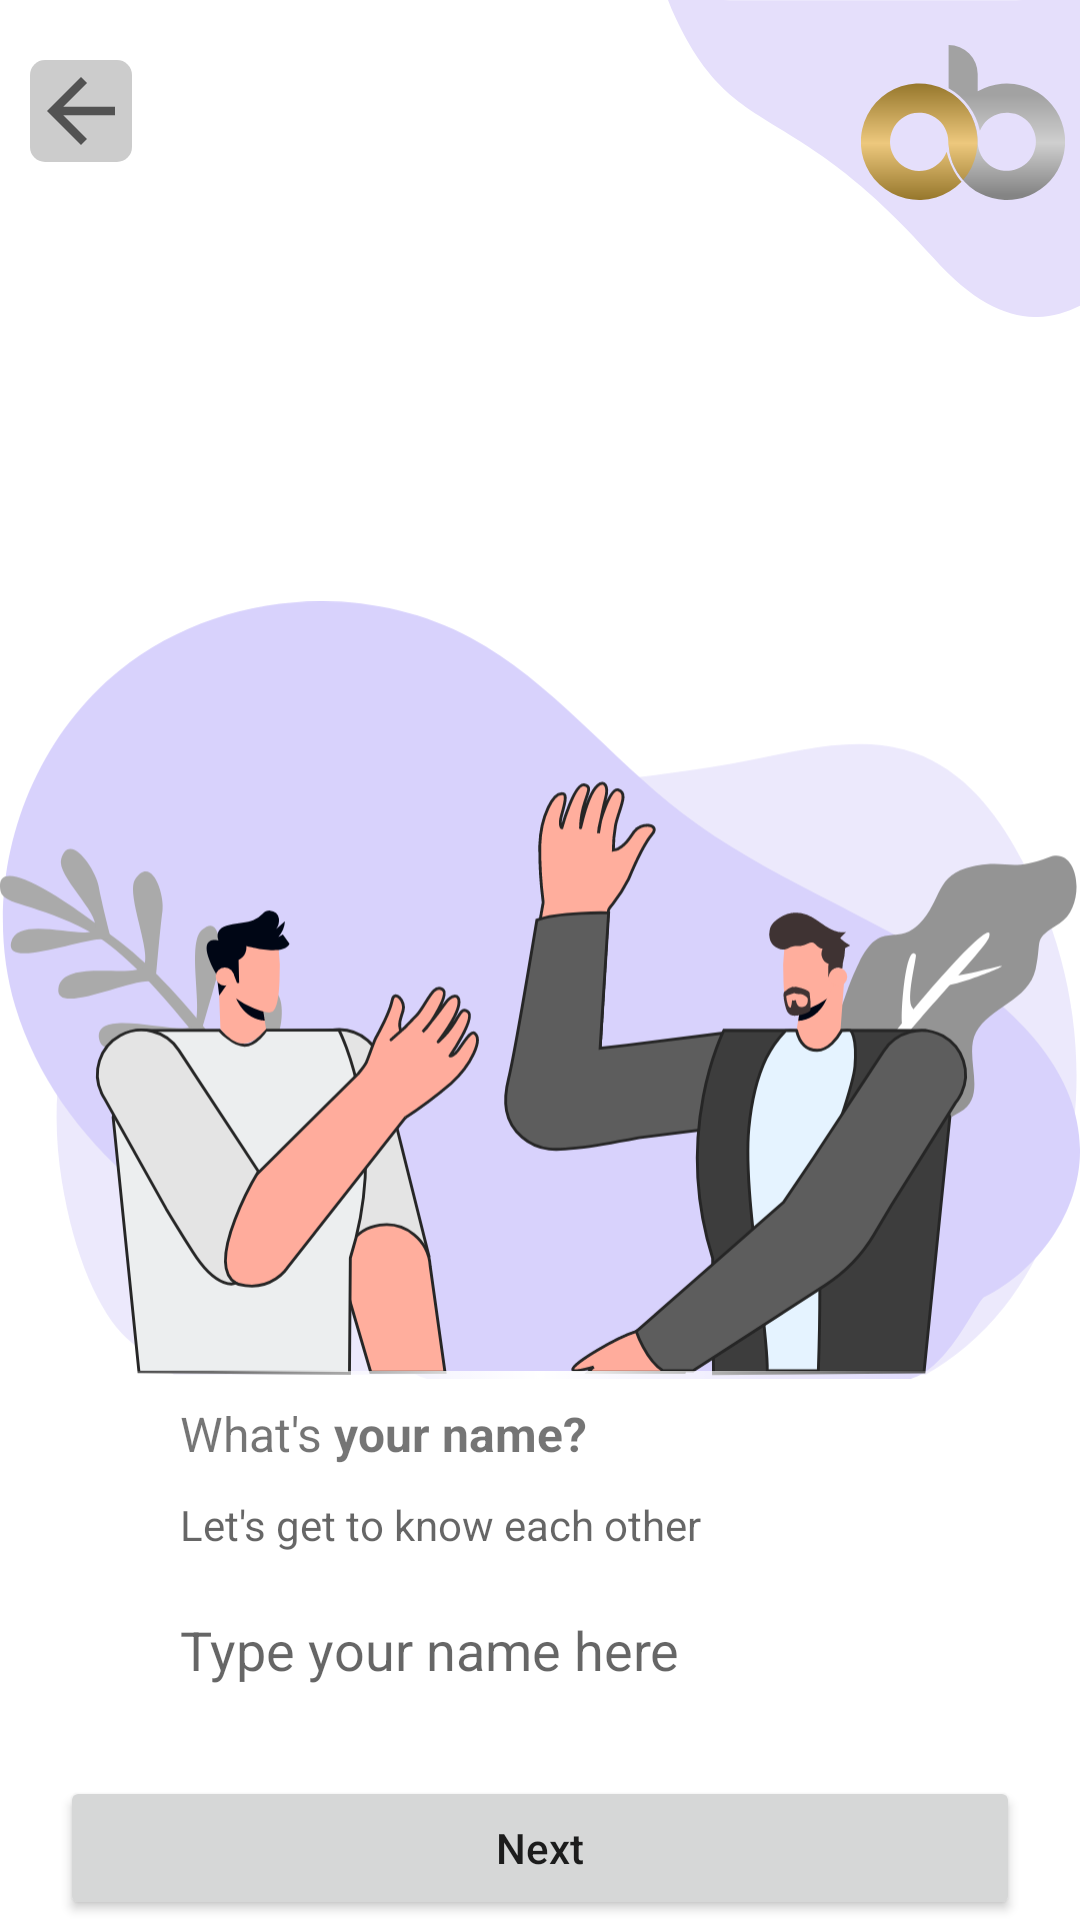

Icons on this 1080 x 1920 Android screen, each with its box as [x1=x1, y1=y1, x2=x2, y2=y2]:
back: [x1=30, y1=60, x2=132, y2=162]
